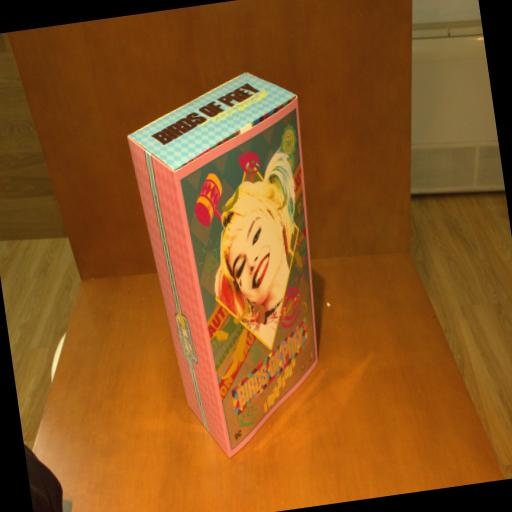Harley: (122, 64, 345, 466)
